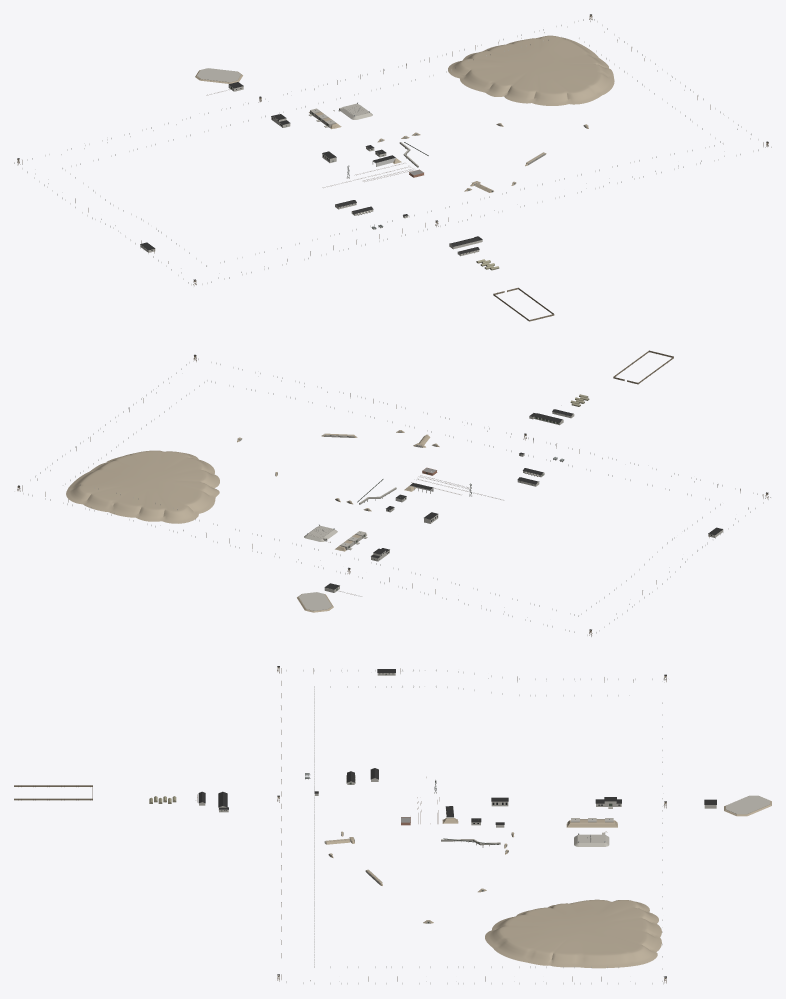
The picture shows the model from 3 angles, top to bottom: view 1: azimuth 30°, elevation 25°; view 2: azimuth 150°, elevation 25°; view 3: azimuth 270°, elevation 25°; orthographic projection. The views are drawn at different scales.
Parts seen in each view (by area): view 1: SpoilHeap_Earth; view 2: SpoilHeap_Earth; view 3: SpoilHeap_Earth, Site51_ConcretePad.
Part boxes in pixels (x1,y1,x2,y2): SpoilHeap_Earth: [448, 35, 614, 105]; SpoilHeap_Earth: [66, 450, 219, 523]; SpoilHeap_Earth: [485, 899, 661, 968]; Site51_ConcretePad: [726, 795, 769, 814].
Bounding box in the file's own units: 922 × 34.08 × 953.
